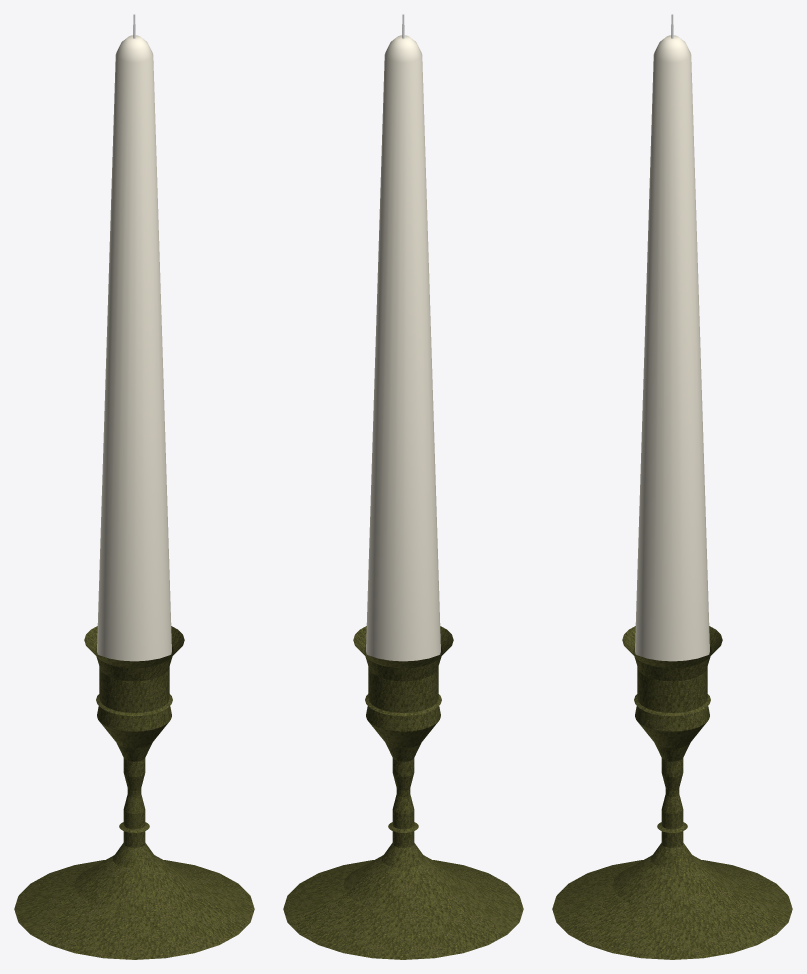
Rendered from vela-alargada-en-candelabro-individual.glb.
3 renders of one model, left to right at view 1: azimuth 30°, elevation 25°; view 2: azimuth 150°, elevation 25°; view 3: azimuth 270°, elevation 25°, orthographic.
Parts seen in each view (by area): view 1: Root Node; view 2: Root Node; view 3: Root Node.
Boxes of the visible parts, <box> form: Root Node: <box>14,14,254,959</box>; Root Node: <box>283,14,523,959</box>; Root Node: <box>552,14,792,959</box>.
Bounding box in the file's own units: 0.0982 × 0.4031 × 0.0982.
3 materials, 1 textured.
